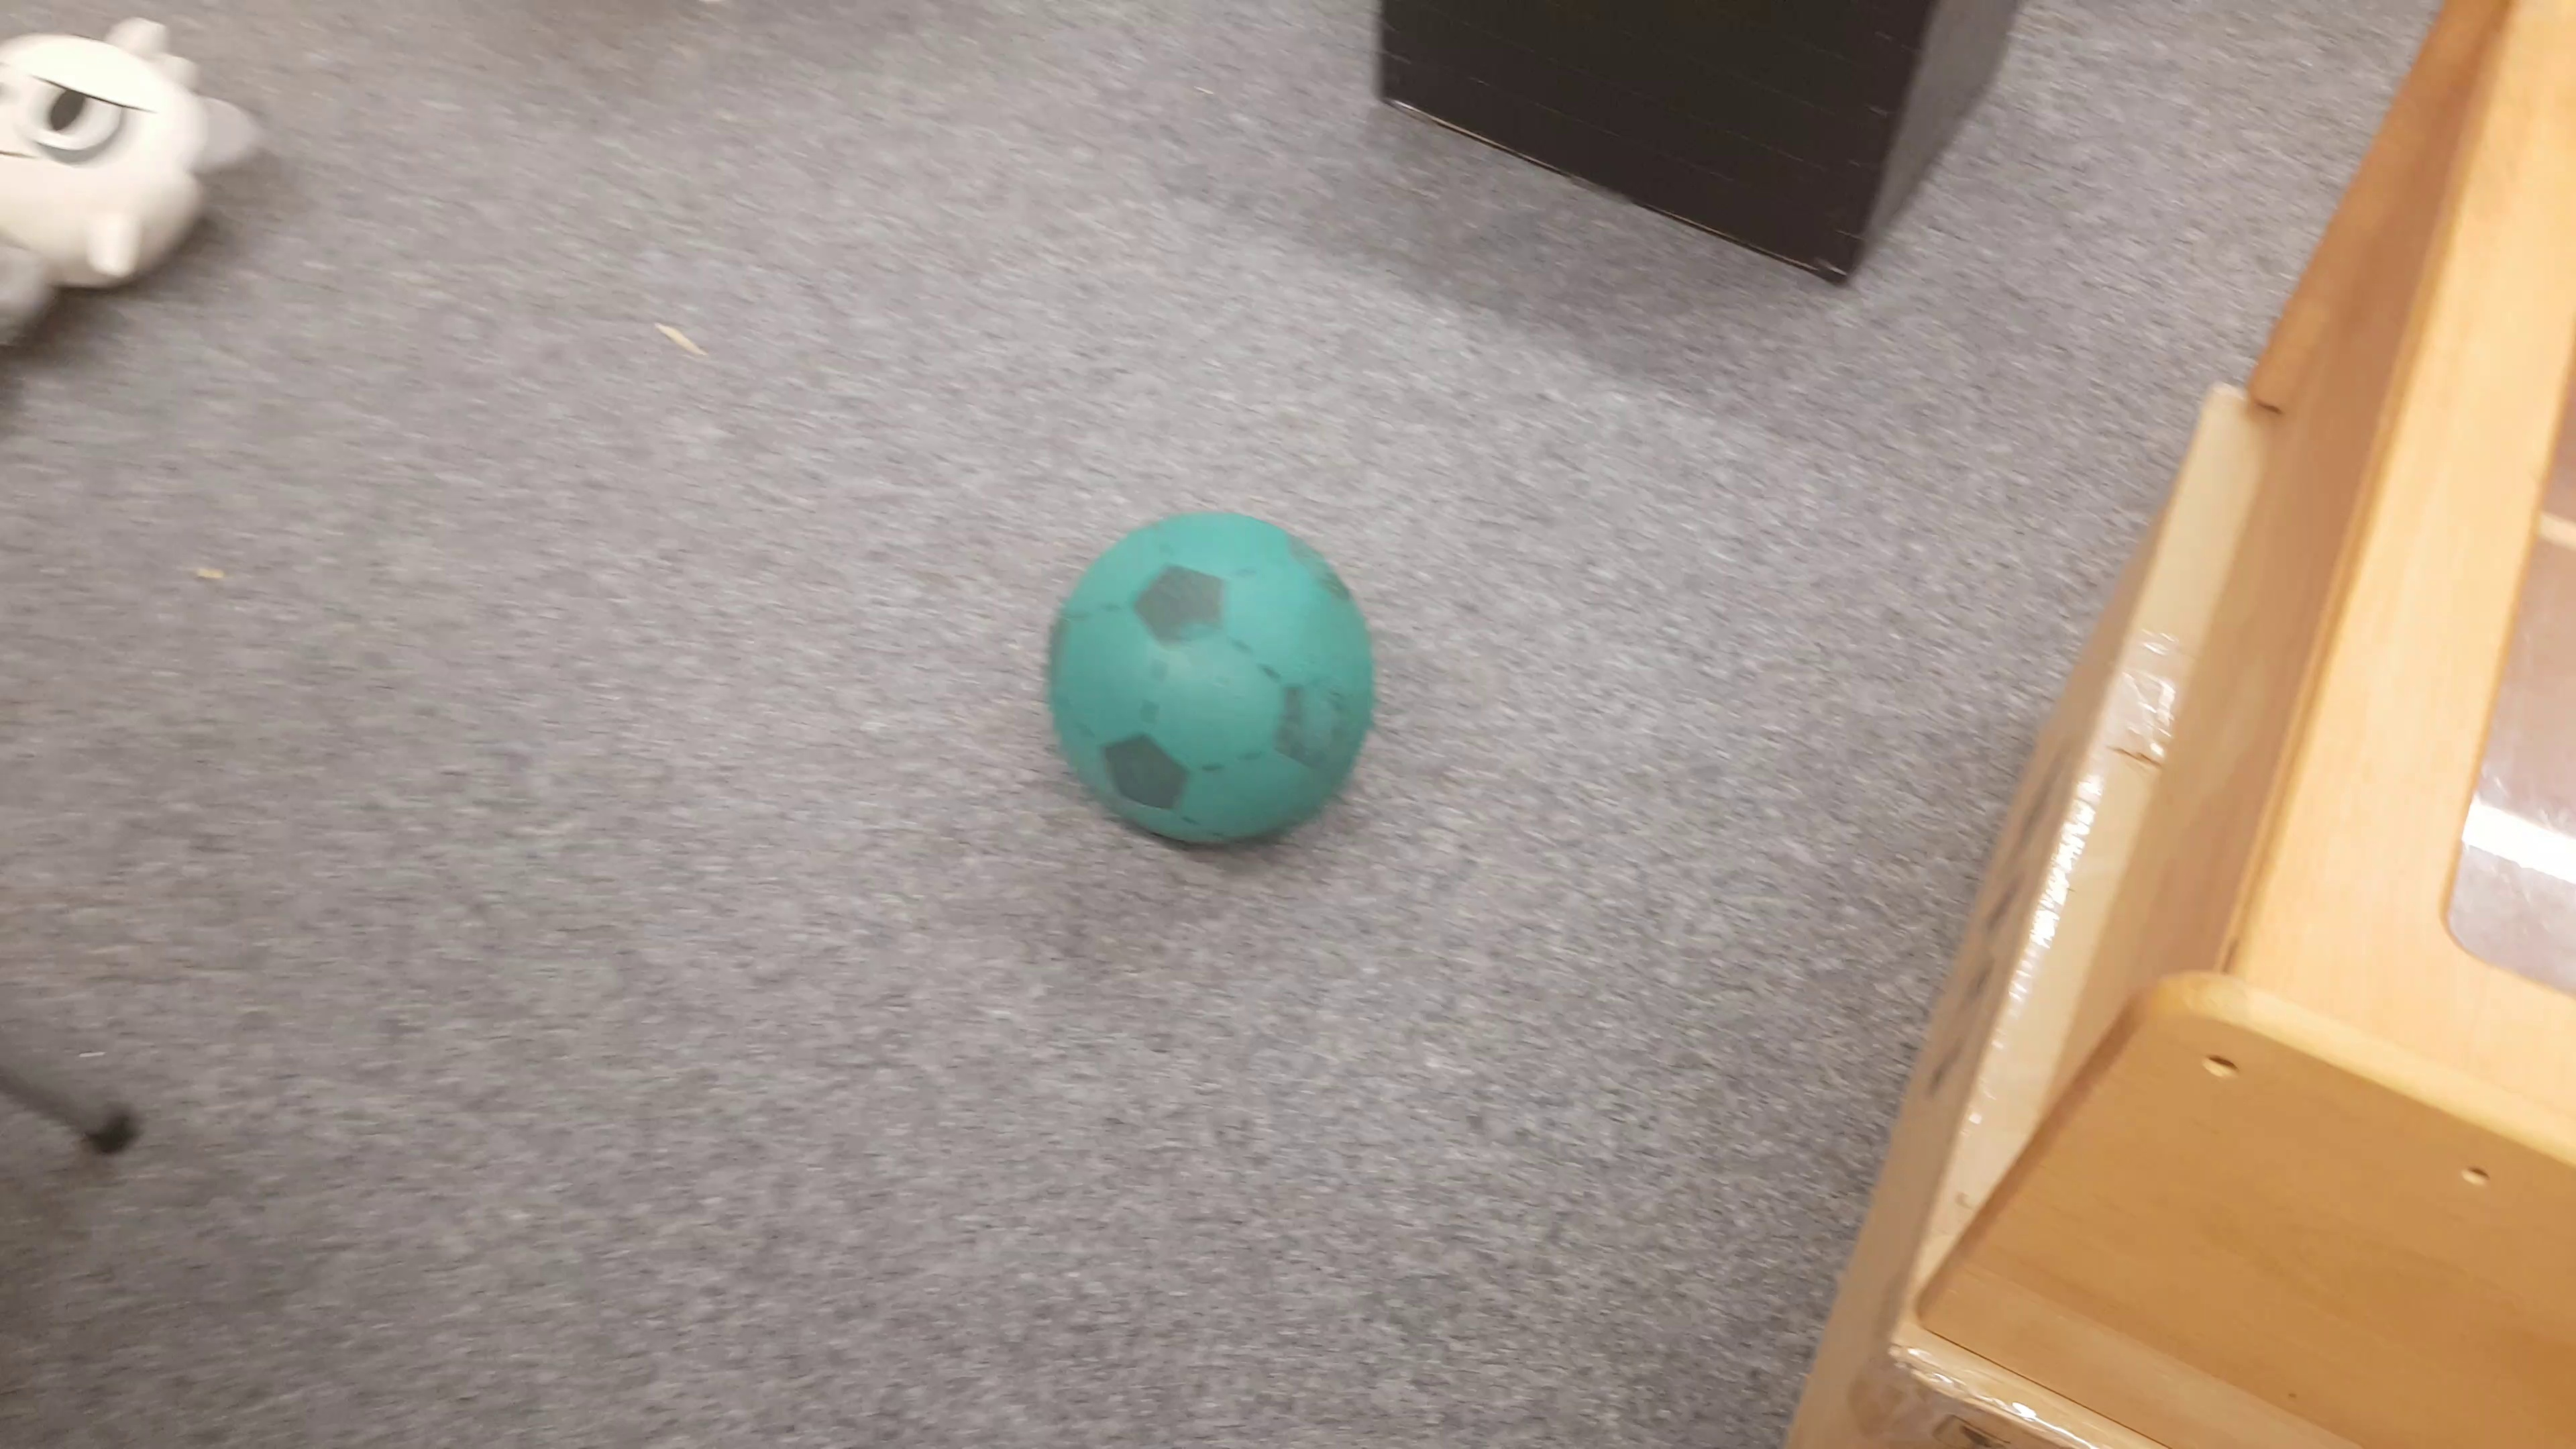grasp: (2, 67, 265, 352)
kick: (1044, 510, 1375, 855)
push: (1371, 2, 2040, 285)
